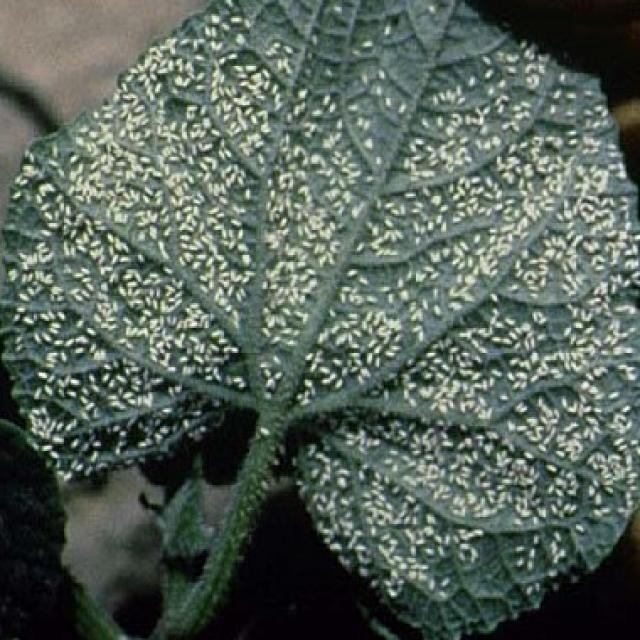Whitefly: (3, 0, 640, 623)
